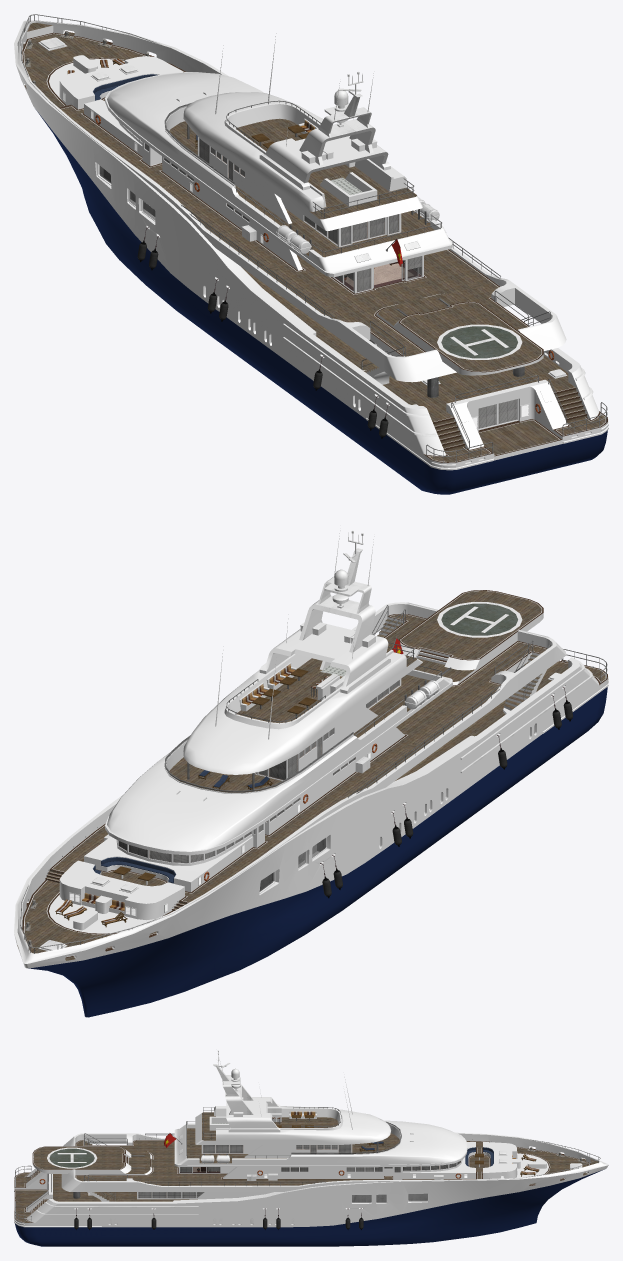
Rendered from superyacht.glb.
3 renders of one model, top to bottom at view 1: azimuth 30°, elevation 25°; view 2: azimuth 150°, elevation 25°; view 3: azimuth 270°, elevation 25°, orthographic. The views are drawn at different scales.
Visible parts, largest first — view 1: Object_7, Object_11, Object_15, Object_6, Object_13, Object_50, Object_9, Object_64, Object_52, Object_56, Object_42; view 2: Object_7, Object_15, Object_11, Object_6, Object_13, Object_50, Object_9, Object_64, Object_52, Object_88, Object_68, Object_56 (+1 smaller); view 3: Object_7, Object_15, Object_11, Object_6, Object_9, Object_13, Object_64, Object_50, Object_52, Object_88, Object_56.
Boxes of the visible parts, x1,y1,x2,y2 form: Object_7: [14, 20, 608, 470]; Object_11: [23, 23, 605, 461]; Object_15: [35, 109, 607, 494]; Object_6: [38, 33, 608, 466]; Object_13: [20, 14, 607, 462]; Object_50: [22, 32, 607, 462]; Object_9: [99, 105, 516, 428]; Object_64: [141, 138, 516, 428]; Object_52: [441, 326, 517, 358]; Object_56: [137, 243, 388, 436]; Object_42: [179, 154, 413, 286]; Object_7: [14, 602, 608, 968]; Object_15: [28, 687, 607, 1017]; Object_11: [17, 591, 605, 960]; Object_6: [38, 530, 608, 950]; Object_13: [20, 605, 607, 953]; Object_50: [22, 590, 607, 957]; Object_9: [118, 680, 399, 891]; Object_64: [119, 672, 398, 862]; Object_52: [441, 603, 517, 635]; Object_88: [55, 668, 316, 927]; Object_68: [56, 664, 328, 923]; Object_56: [322, 703, 573, 896]; Object_7: [14, 1097, 608, 1227]; Object_15: [15, 1169, 604, 1246]; Object_11: [16, 1112, 598, 1222]; Object_6: [14, 1050, 582, 1225]; Object_9: [138, 1123, 460, 1202]; Object_13: [15, 1107, 600, 1222]; Object_64: [138, 1144, 460, 1198]; Object_50: [14, 1140, 590, 1222]; Object_52: [49, 1148, 94, 1167]; Object_88: [276, 1115, 539, 1176]; Object_56: [74, 1219, 363, 1228].
Size of the model in its own units: 0.4383 by 0.6301 by 1.98.
Materials: 44 (42 with a texture image).
